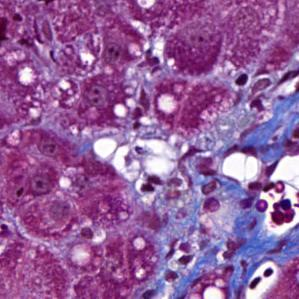ballooning: (106, 134, 183, 200)
